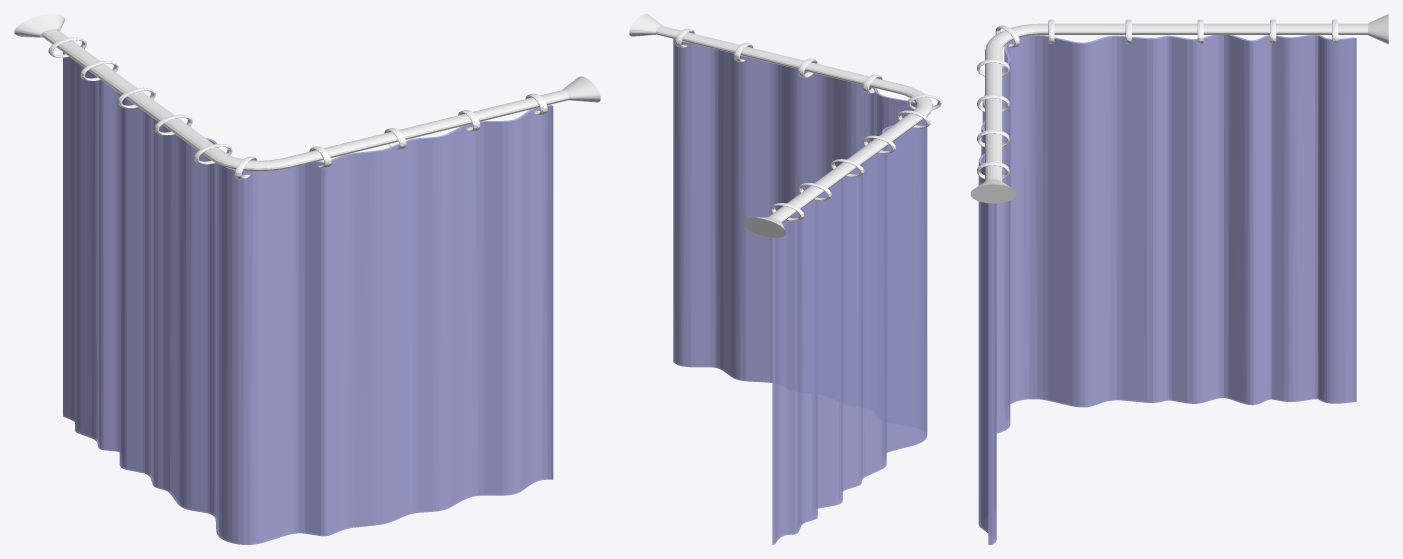
The model's file is sh-contrib-tenda-doccia.glb.
3 renders of one model, left to right at view 1: azimuth 30°, elevation 25°; view 2: azimuth 150°, elevation 25°; view 3: azimuth 270°, elevation 25°, orthographic. The views are drawn at different scales.
Parts seen in each view (by area): view 1: 1_1, 14_14, 13_13; view 2: 1_1, 14_14, 13_13; view 3: 1_1, 14_14, 13_13.
Boxes of the visible parts, left/top/right/bottom form: 1_1: left=63, top=52, right=553, bottom=544; 14_14: left=14, top=14, right=600, bottom=171; 13_13: left=48, top=37, right=547, bottom=179; 1_1: left=673, top=39, right=927, bottom=544; 14_14: left=629, top=14, right=932, bottom=237; 13_13: left=675, top=28, right=941, bottom=220; 1_1: left=978, top=35, right=1356, bottom=544; 14_14: left=970, top=14, right=1388, bottom=203; 13_13: left=977, top=19, right=1338, bottom=179.
Size of the model in its own units: 1 by 1 by 1.
